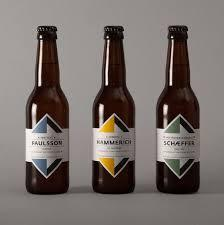Glass bottle: (84, 17, 140, 201), (153, 18, 209, 198), (21, 18, 73, 200)
